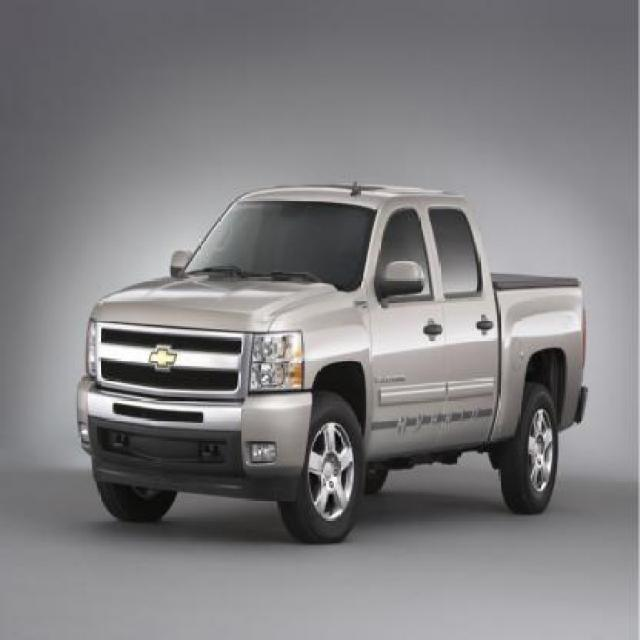vehicle: (42, 135, 610, 562)
